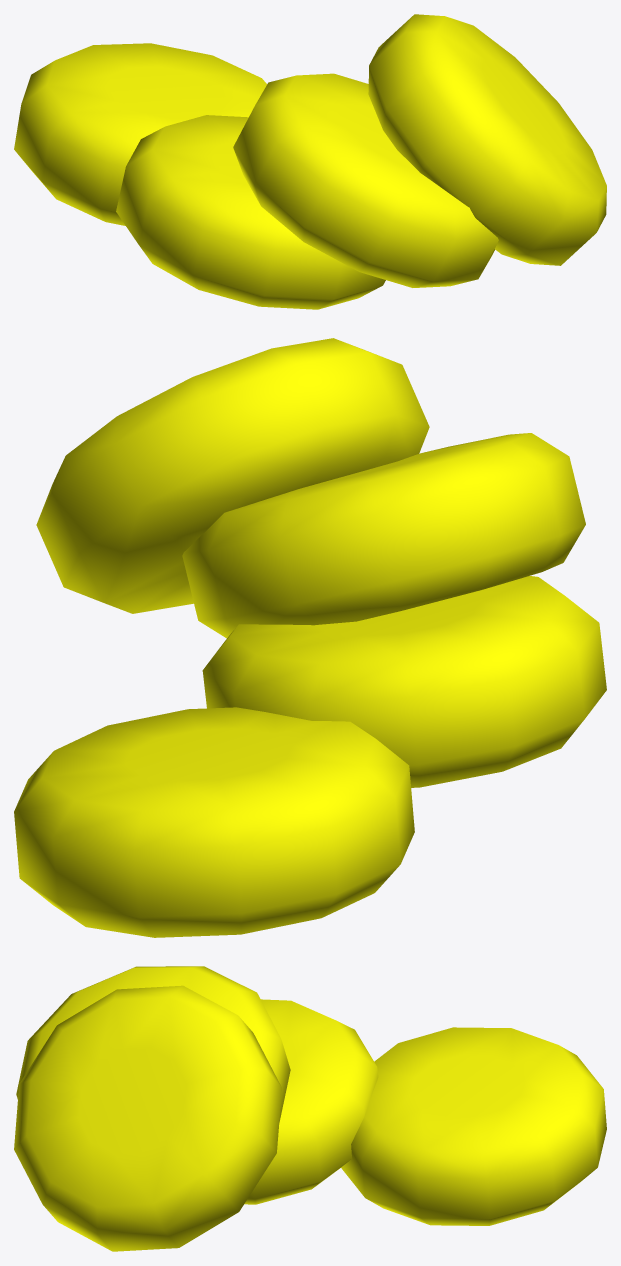
Rendered from food_ingredient_carrot_pieces.gltf.
3 views of the same model, one above another, from view 1: azimuth 30°, elevation 25°; view 2: azimuth 150°, elevation 25°; view 3: azimuth 270°, elevation 25° (orthographic). The views are drawn at different scales.
Visible parts, largest first — view 1: food_ingredient_carrot_pieces; view 2: food_ingredient_carrot_pieces; view 3: food_ingredient_carrot_pieces.
Boxes of the visible parts, left/top/right/bottom form: food_ingredient_carrot_pieces: left=14, top=14, right=606, bottom=309; food_ingredient_carrot_pieces: left=14, top=338, right=606, bottom=937; food_ingredient_carrot_pieces: left=14, top=966, right=606, bottom=1251.
Size of the model in its own units: 0.543 by 0.3226 by 0.7191.
Materials: 1 (1 with a texture image).
